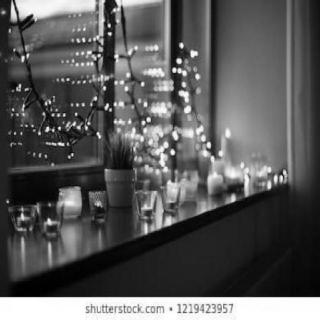Fire: (43, 212, 54, 228), (221, 125, 233, 139), (142, 201, 152, 214)
other: (108, 15, 214, 167)
